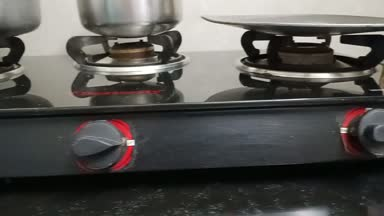flame_gas_off: (62, 21, 193, 179)
